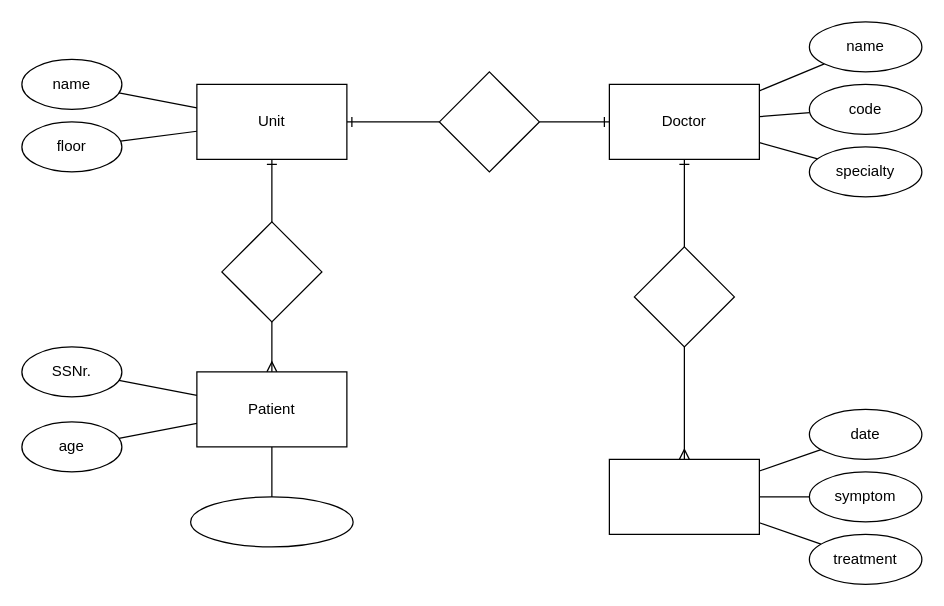
Image size: 944x606. Some labels were removed from this diagram. Each missing label, with the centre of its shape:
"admission date" belongs at point 271,521.
"admit" belongs at point 271,271.
"in charge" belongs at point 488,121.
"intervention" belongs at point 683,496.
"write down" belongs at point 683,296.
